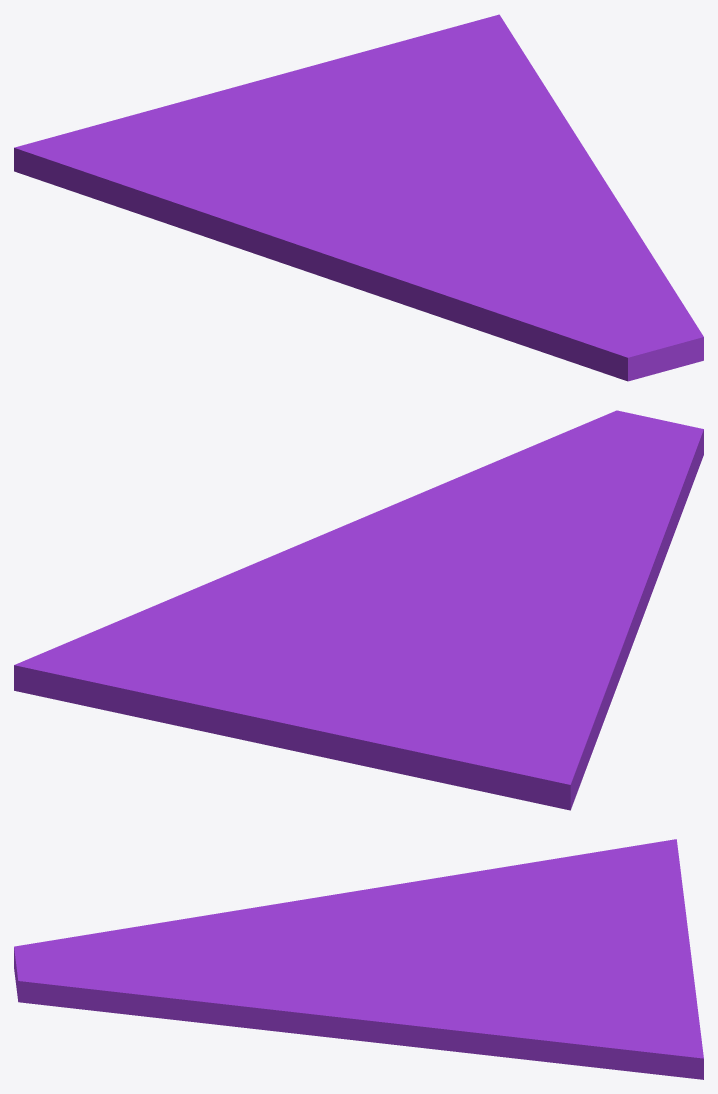
The model's file is StairsStep_39.fbx.
3 views of the same model, one above another, from view 1: azimuth 30°, elevation 25°; view 2: azimuth 150°, elevation 25°; view 3: azimuth 270°, elevation 25° (orthographic). The views are drawn at different scales.
Visible parts, largest first — view 1: StairsStep_39; view 2: StairsStep_39; view 3: StairsStep_39.
Part boxes in pixels (bbox=[...]): StairsStep_39: bbox=[14, 14, 703, 381]; StairsStep_39: bbox=[14, 410, 703, 810]; StairsStep_39: bbox=[14, 839, 703, 1079].
Size of the model in its own units: 396 by 17.94 by 526.
